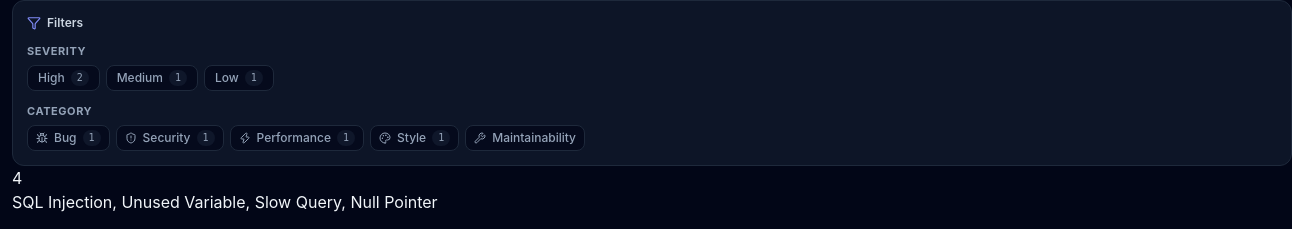
Test case: FilterBar & Issue Filtering Logic › filters issues when severity chip is clicked
Check: the text with test id "filtered-count" reads "4", box top-left (12, 168), bottom-right (22, 188)
# Click High severity filter
Click the button with test id "filter-severity-high".
click(63, 78)  # box top-left (27, 65), bottom-right (100, 91)
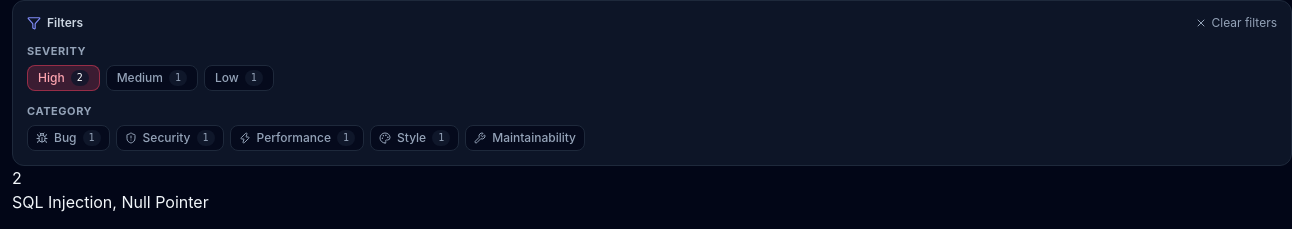
Check: the text with test id "filtered-count" reads "2", box top-left (12, 168), bottom-right (22, 188)
Check: the text with test id "filtered-titles" reads "SQL Injection, Null Pointer", box top-left (12, 192), bottom-right (209, 212)
